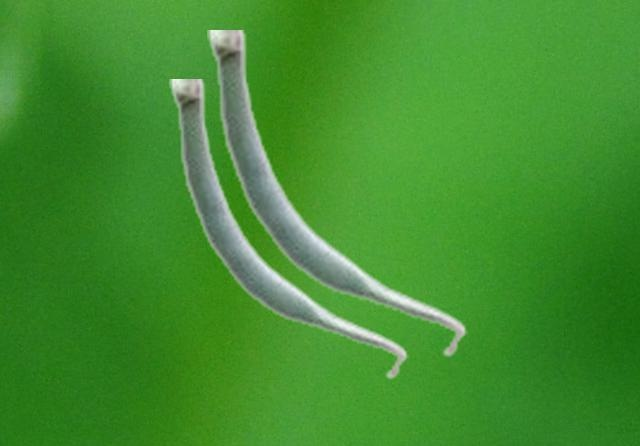french_bean: (207, 30, 466, 358), (169, 79, 407, 380)
